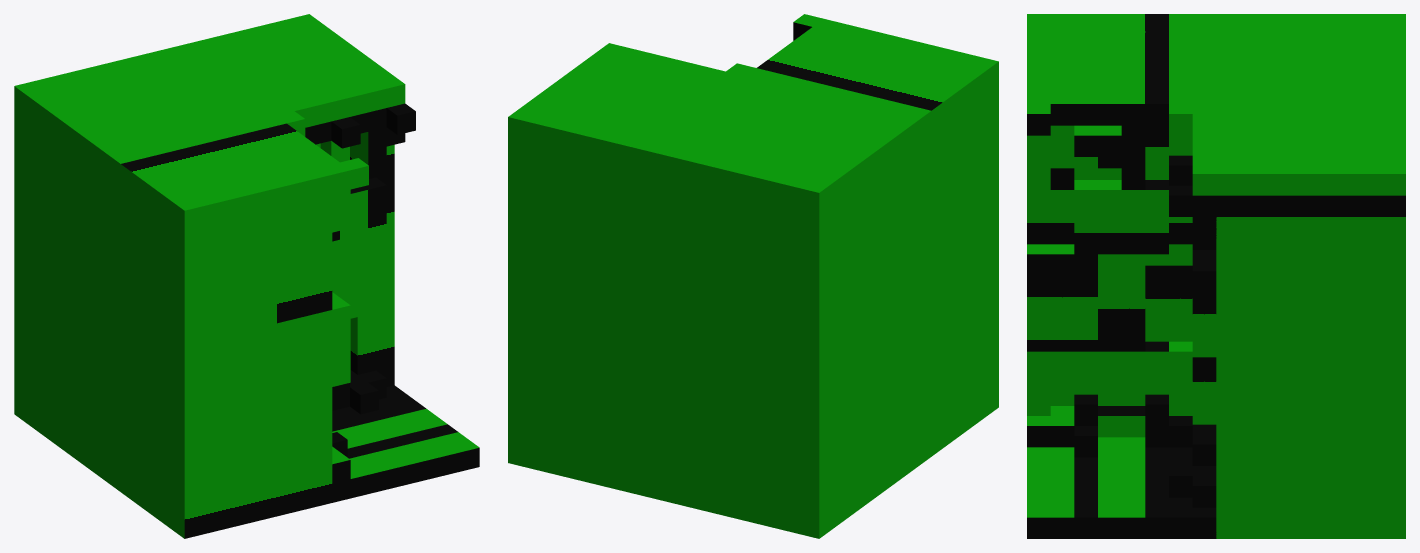
The model's file is Corner7.fbx.
3 views of the same model, side by side, from view 1: azimuth 30°, elevation 25°; view 2: azimuth 150°, elevation 25°; view 3: azimuth 270°, elevation 25° (orthographic). The views are drawn at different scales.
Parts seen in each view (by area): view 1: Cliff, Ground; view 2: Cliff, Ground; view 3: Cliff, Ground.
Boxes of the visible parts, x1=… form: Cliff: x1=14, y1=105, x2=394, y2=538; Ground: x1=14, y1=14, x2=479, y2=502; Cliff: x1=508, y1=82, x2=998, y2=538; Ground: x1=508, y1=14, x2=998, y2=212; Cliff: x1=1027, y1=147, x2=1405, y2=538; Ground: x1=1027, y1=14, x2=1405, y2=538.
Size of the model in its own units: 16 by 17 by 16.
